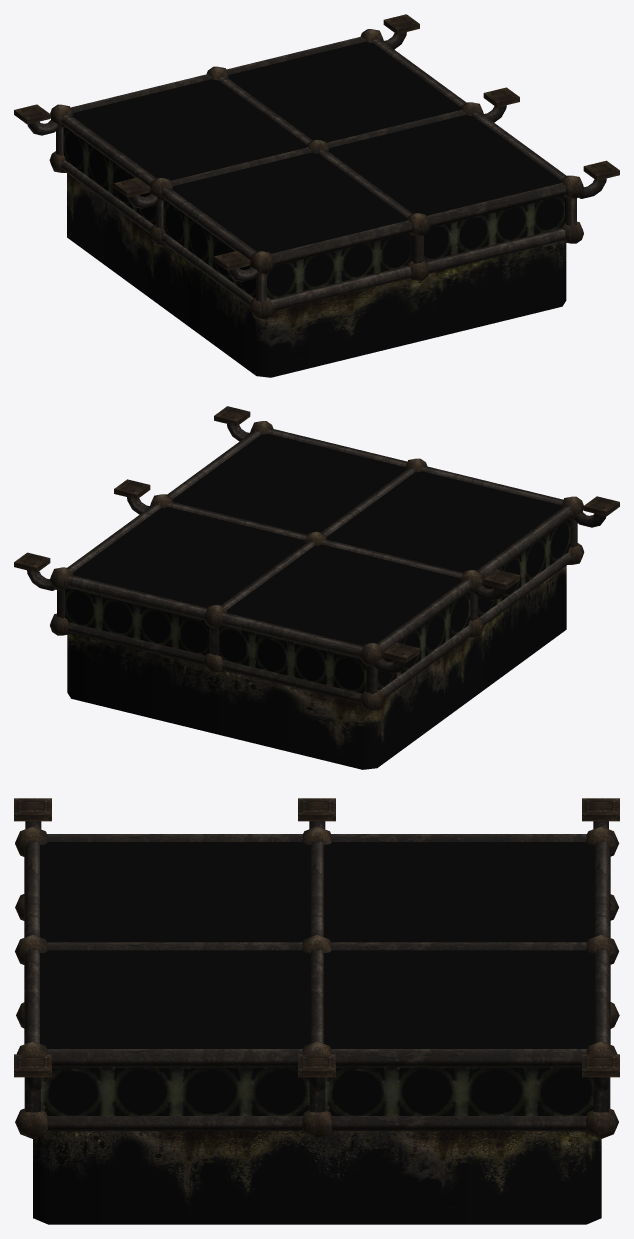
The model's file is catwalk_factory_2m_dirty.DAE.
3 renders of one model, top to bottom at view 1: azimuth 30°, elevation 25°; view 2: azimuth 150°, elevation 25°; view 3: azimuth 270°, elevation 25°, orthographic. The views are drawn at different scales.
Visible parts, largest first — view 1: Object122, Box004, Object123; view 2: Object122, Box004, Object123; view 3: Object122, Box004, Object123.
Part boxes in pixels (x1,y1,x2,y2): Object122: (63, 41, 565, 298); Box004: (67, 173, 566, 377); Object123: (14, 14, 619, 319); Object122: (65, 433, 570, 693); Box004: (67, 565, 566, 769); Object123: (14, 406, 619, 711); Object122: (40, 842, 594, 1115); Box004: (33, 1131, 601, 1224); Object123: (14, 798, 619, 1139).
Size of the model in its own units: 2.12 by 0.6666 by 2.
